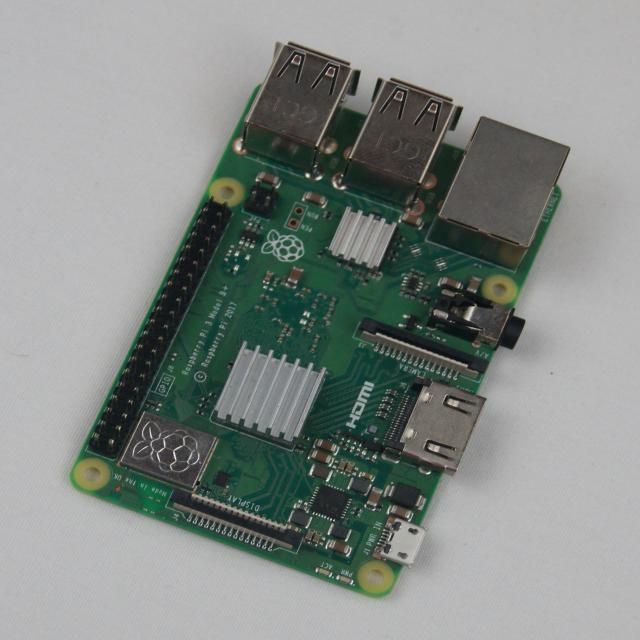Raspberry Pi 3 B-: (72, 44, 569, 597)
